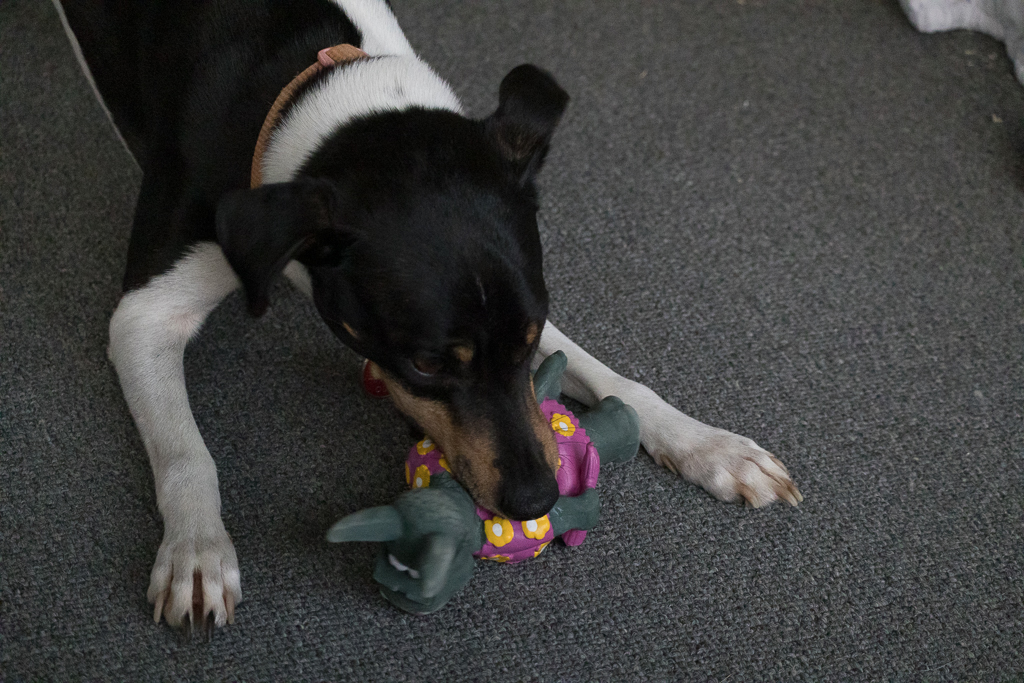Dog: (46, 0, 811, 663)
Humanoid: (309, 342, 657, 633)
